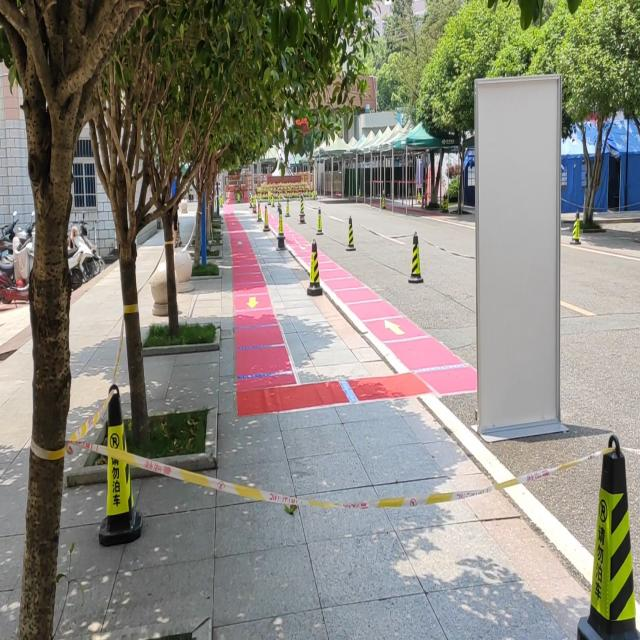motorbike: (66, 245, 84, 290)
reflective_cone: (574, 434, 640, 639), (98, 385, 144, 545), (306, 237, 323, 296), (408, 230, 423, 281), (344, 215, 357, 250), (569, 208, 581, 244), (276, 206, 286, 239), (315, 204, 323, 236), (262, 203, 270, 231), (298, 193, 306, 216), (256, 202, 262, 222), (284, 198, 290, 217), (381, 194, 386, 208)
spherical_roadblock: (150, 260, 179, 314), (173, 249, 194, 291), (180, 198, 188, 213)
